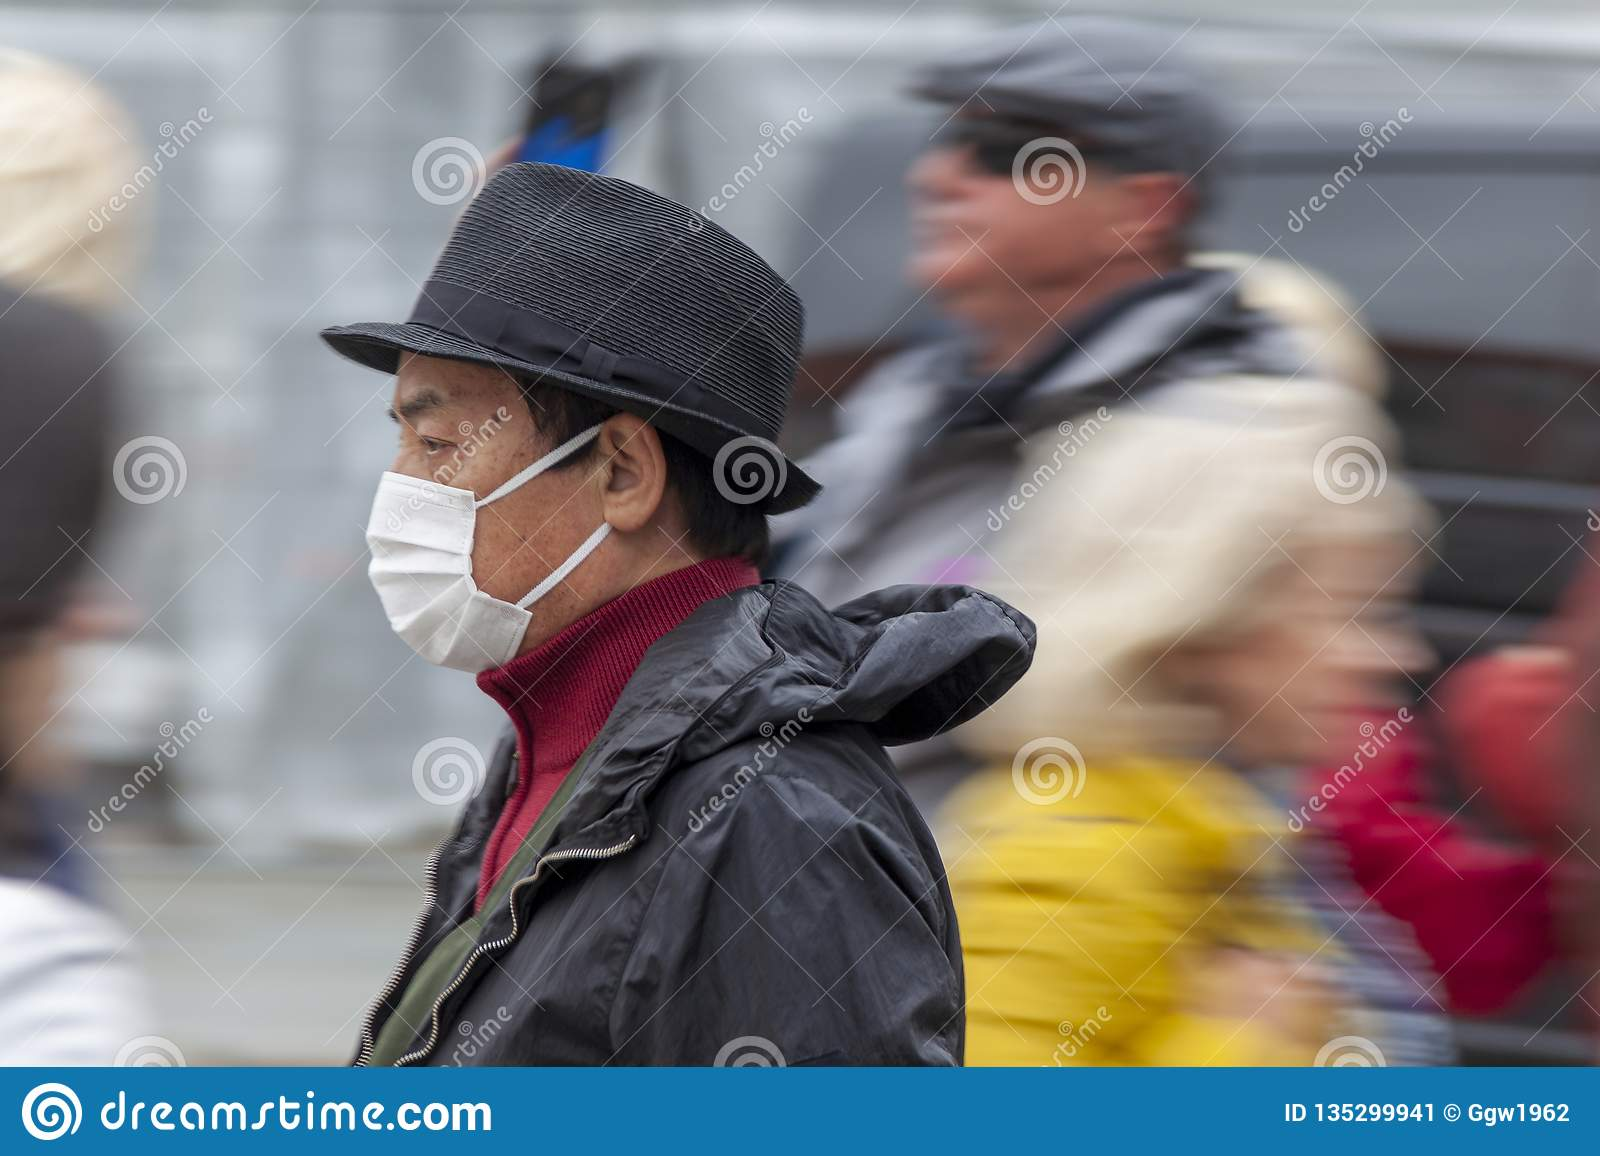mask: (368, 459, 532, 672)
